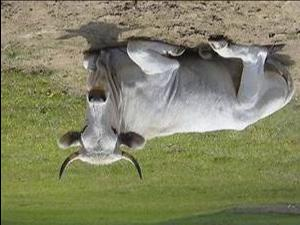cow: (57, 36, 294, 181)
